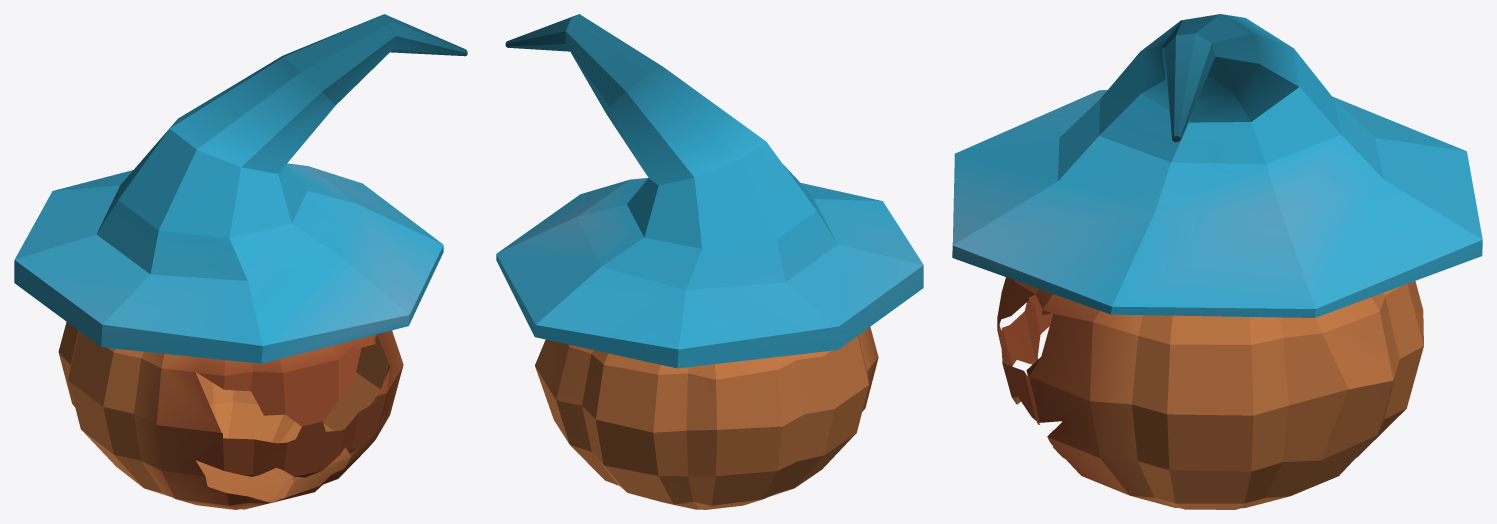
File: pumpkin-2.glb
The picture shows the model from 3 angles, left to right: view 1: azimuth 30°, elevation 25°; view 2: azimuth 150°, elevation 25°; view 3: azimuth 270°, elevation 25°; orthographic projection. The views are drawn at different scales.
Visible parts, largest first — view 1: Sphere.003; view 2: Sphere.003; view 3: Sphere.003.
Boxes of the visible parts, x1,y1,x2,y2 form: Sphere.003: [14, 14, 467, 509]; Sphere.003: [496, 14, 923, 509]; Sphere.003: [952, 14, 1482, 509].
Size of the model in its own units: 3.09 by 3.27 by 2.94.
